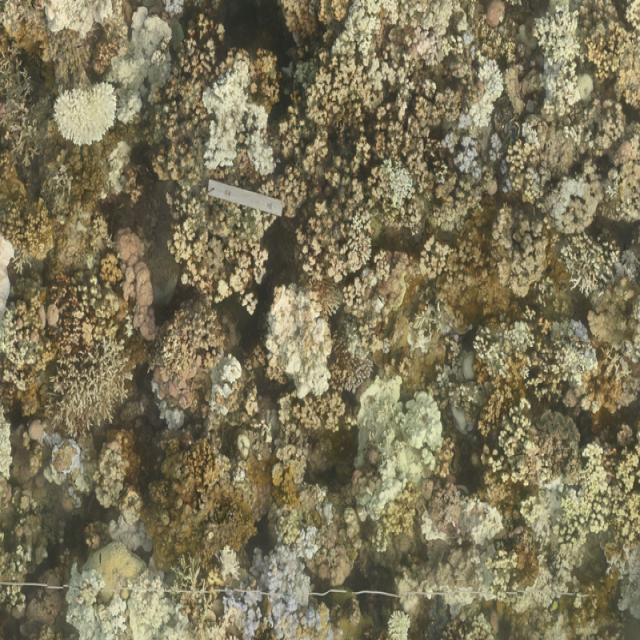Bleached Coral: (215, 540, 331, 640), (355, 383, 451, 498), (63, 560, 193, 640), (261, 287, 337, 399), (200, 71, 279, 175), (325, 1, 467, 51), (532, 4, 589, 118), (113, 21, 179, 115), (43, 82, 125, 148), (464, 34, 506, 148), (467, 317, 548, 366), (560, 318, 604, 391), (205, 348, 246, 421), (538, 176, 598, 224), (379, 162, 422, 228)
